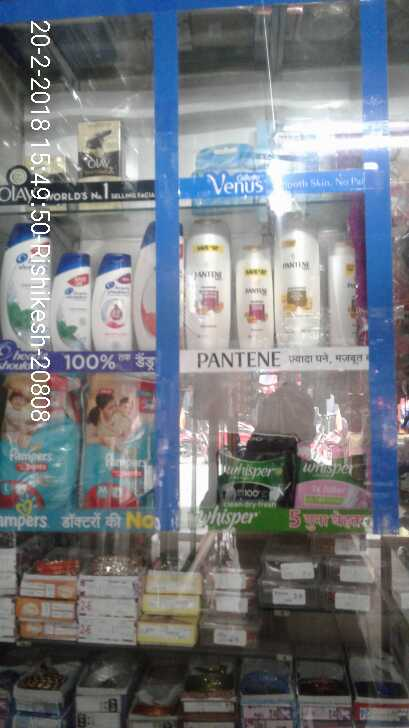venus: (199, 142, 251, 172)
